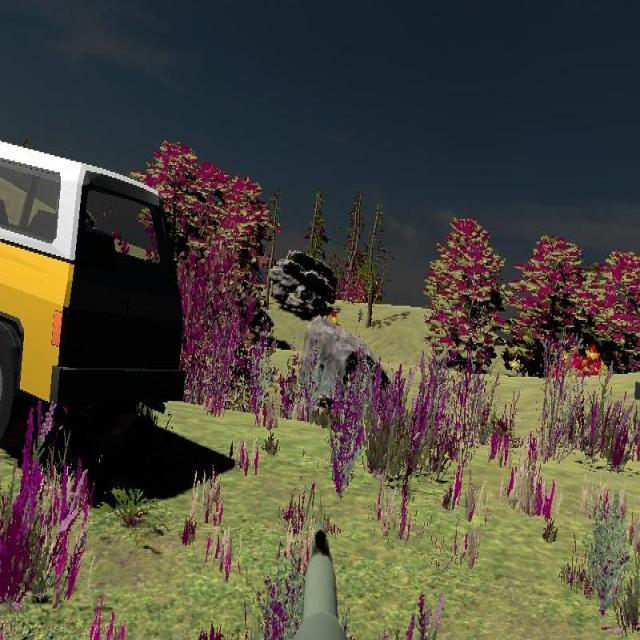car: (1, 133, 191, 451)
